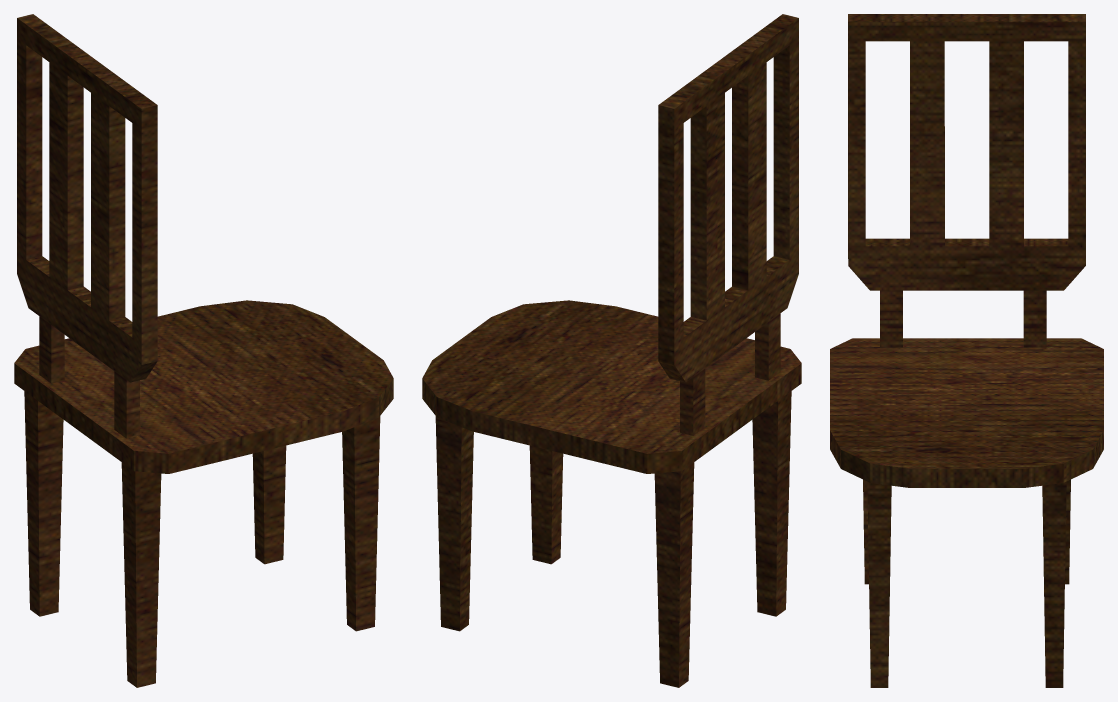
File: Chair.glb
3 renders of one model, left to right at view 1: azimuth 30°, elevation 25°; view 2: azimuth 150°, elevation 25°; view 3: azimuth 270°, elevation 25°, orthographic. The views are drawn at different scales.
Visible parts, largest first — view 1: Chair; view 2: Chair; view 3: Chair.
Part boxes in pixels (x1,y1,x2,y2): Chair: (14, 14, 393, 687); Chair: (422, 14, 801, 687); Chair: (830, 14, 1103, 687).
Size of the model in its own units: 0.4576 by 0.9151 by 0.4056.
1 material, 1 textured.
